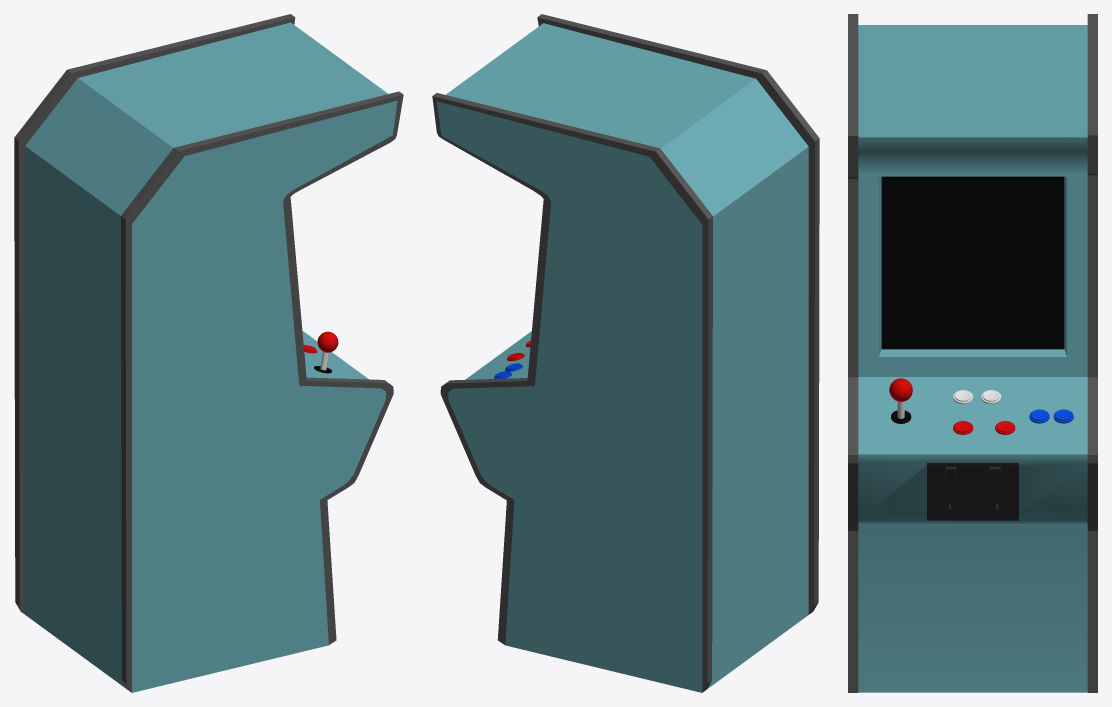
The model's file is Basic Arcade.fbx.
The picture shows the model from 3 angles, left to right: view 1: azimuth 30°, elevation 25°; view 2: azimuth 150°, elevation 25°; view 3: azimuth 270°, elevation 25°; orthographic projection. The views are drawn at different scales.
Visible parts, largest first — view 1: polySurface2; view 2: polySurface2; view 3: polySurface2, polySurface1.
Boxes of the visible parts, x1=… form: polySurface2: x1=14, y1=14, x2=403, y2=692; polySurface2: x1=432, y1=14, x2=819, y2=692; polySurface2: x1=848, y1=14, x2=1097, y2=692; polySurface1: x1=889, y1=378, x2=912, y2=418.
Bounding box in the file's own units: 1.24 × 2.27 × 0.8608.
